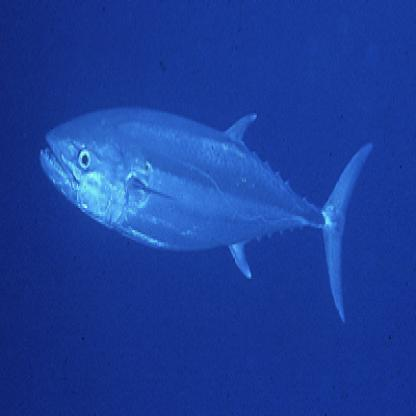tuna: (38, 104, 380, 332)
